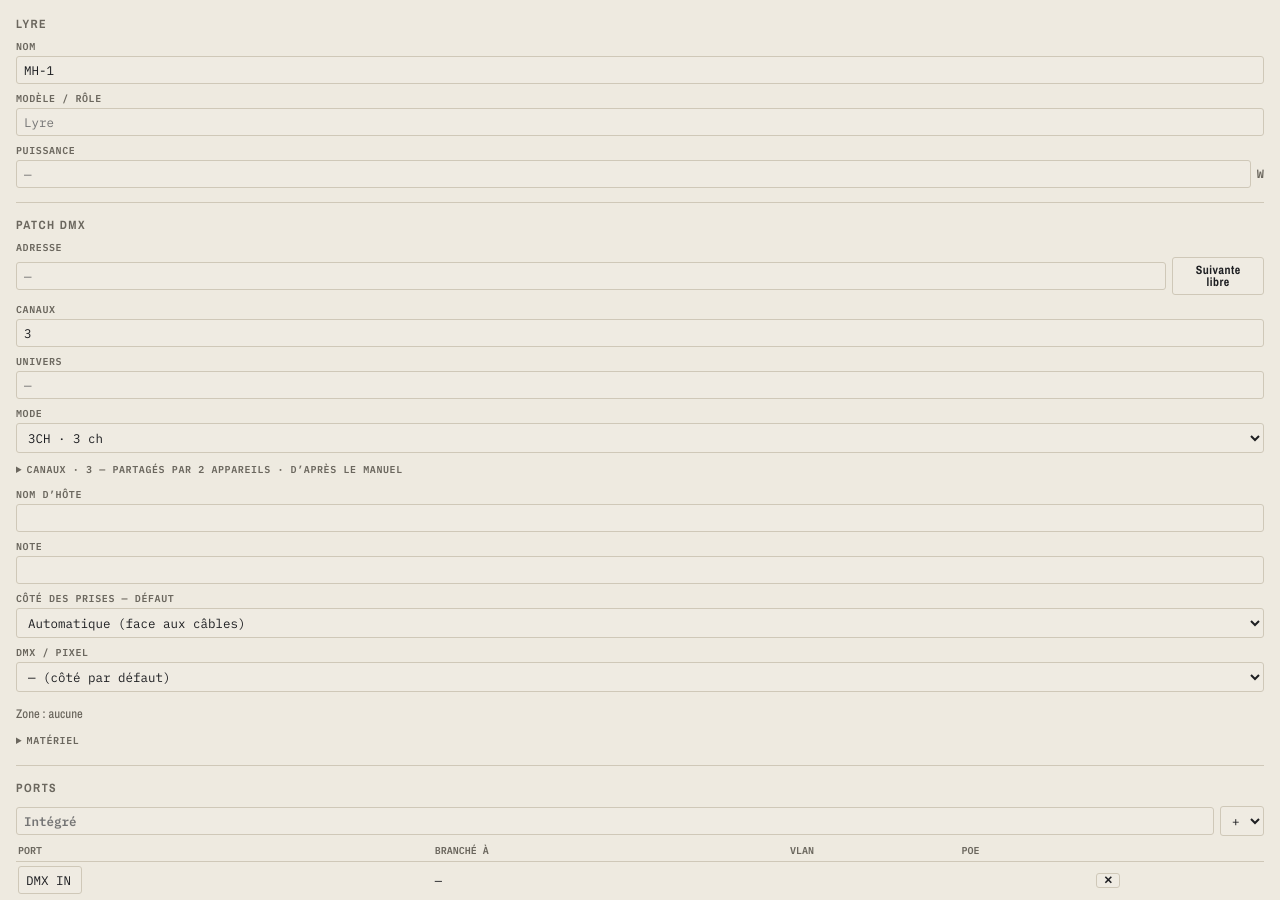
Test: inspecteur : canaux DMX › changer de mode donne la liste de l’autre mode ; l’autre appareil garde la sienne
Select "2CH · 2 ch" in the dropdown named "Mode DMX": (640, 438) [16, 423, 1264, 453]
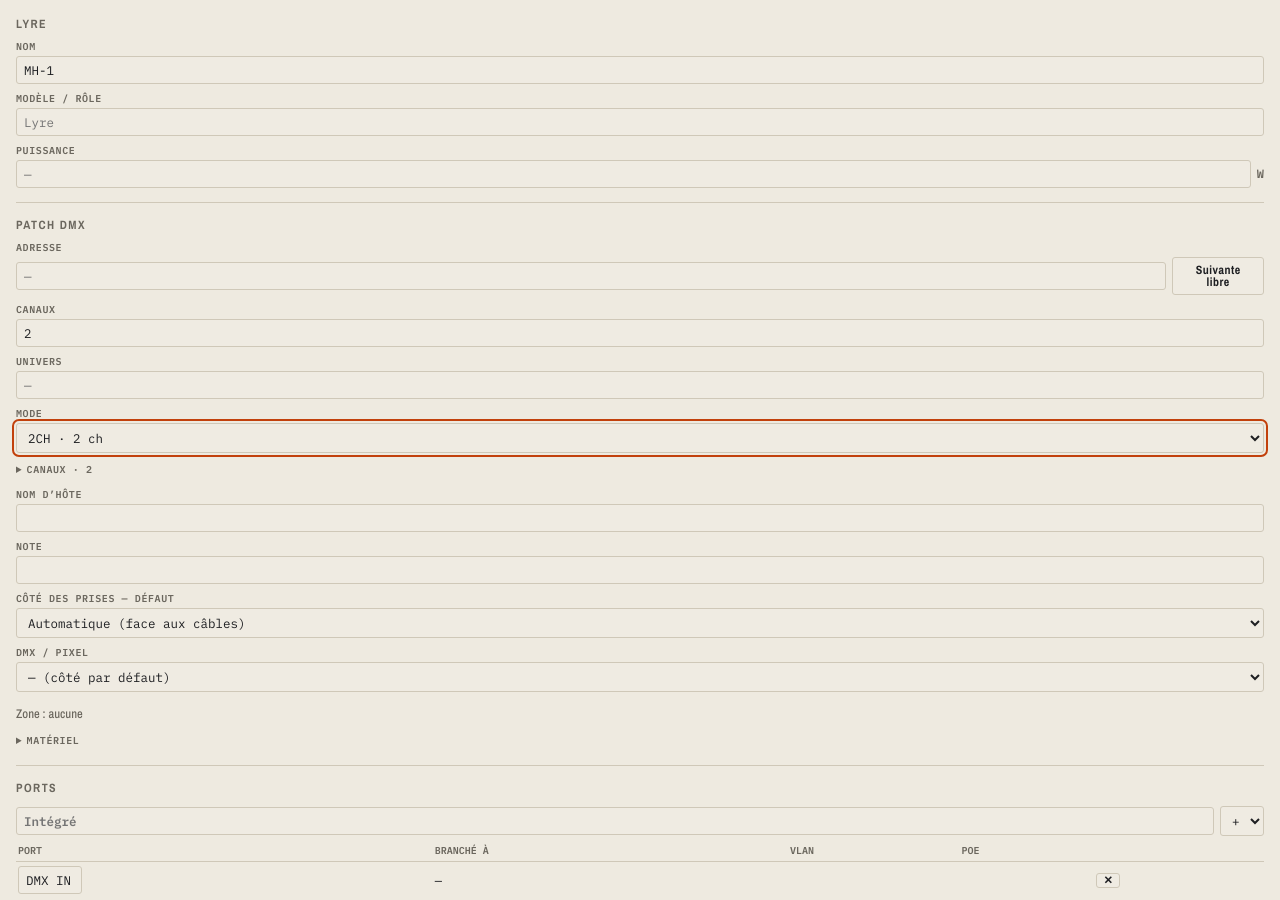
Expected: the element named "Canal 1" is empty, [27, 463, 93, 476]
Expected: the heading "Canaux · 2" is shown, [27, 463, 93, 476]
